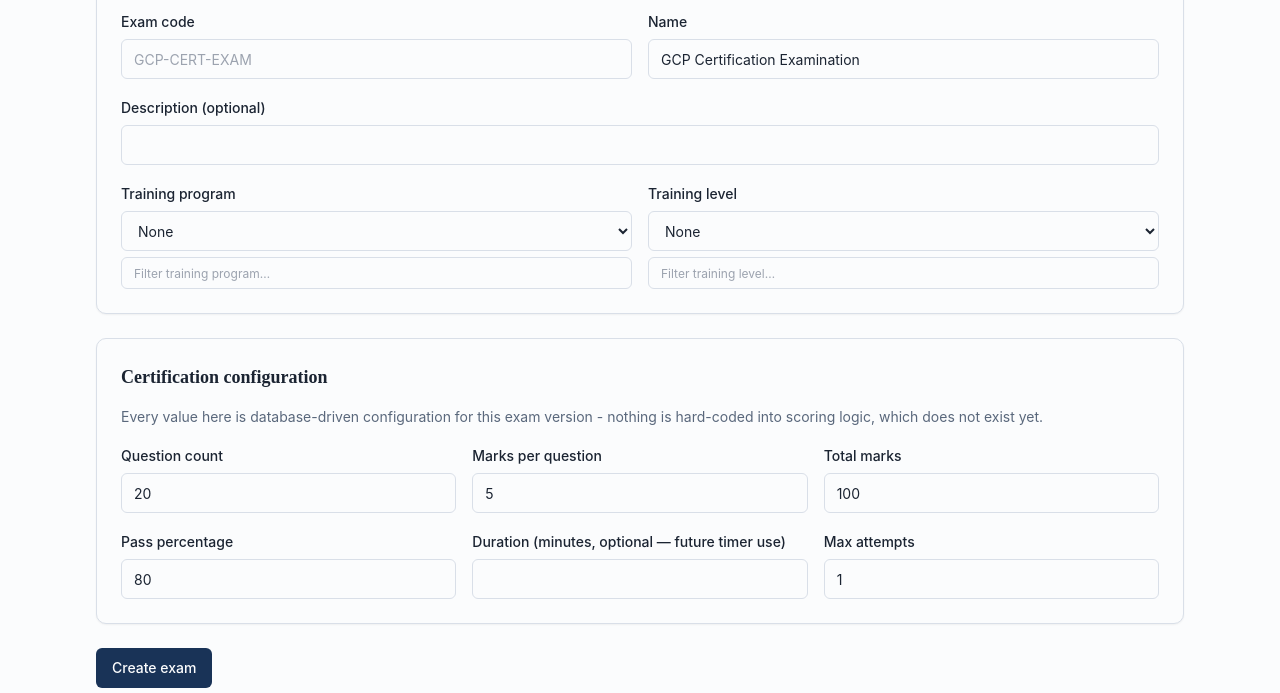
Scenario: New exam page › requires a training program and level before submitting
(page scrolled)
What coordinates should you click on to do the following:
click the button "Create exam"
I would click on:
 (154, 668)
Its box is [96, 648, 212, 688].
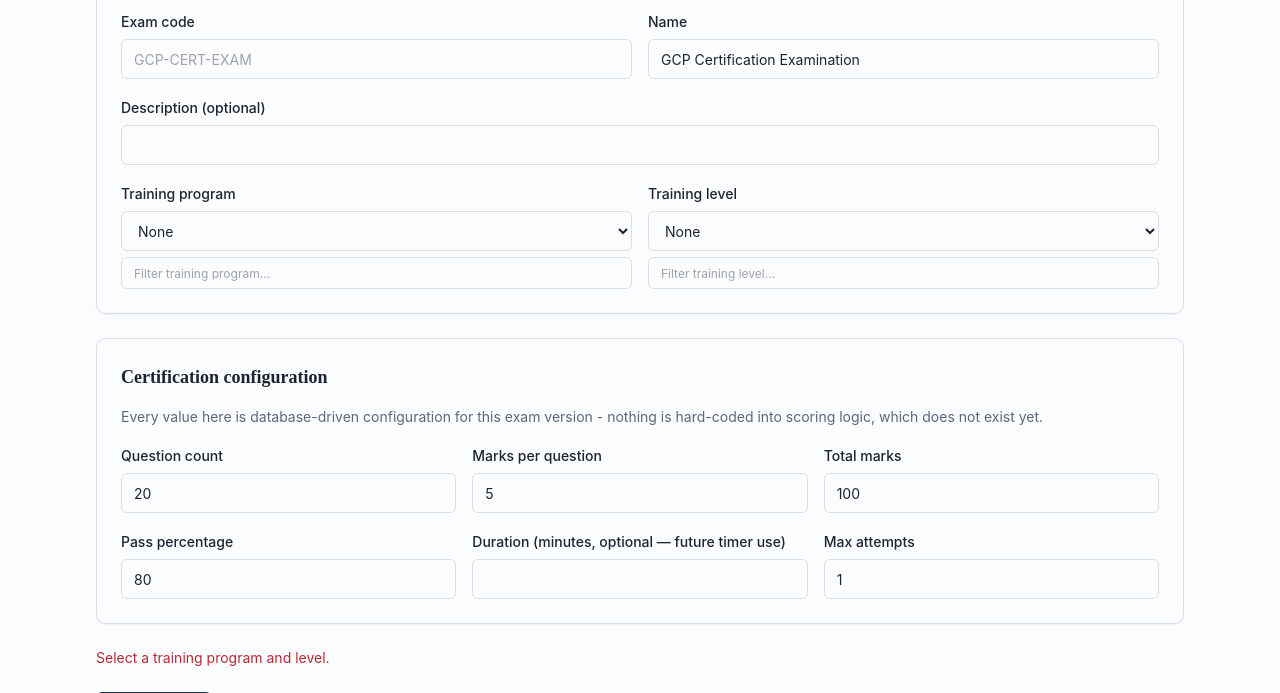
expect the text "Select a training program and level." is shown: met, box [96, 649, 330, 666]
